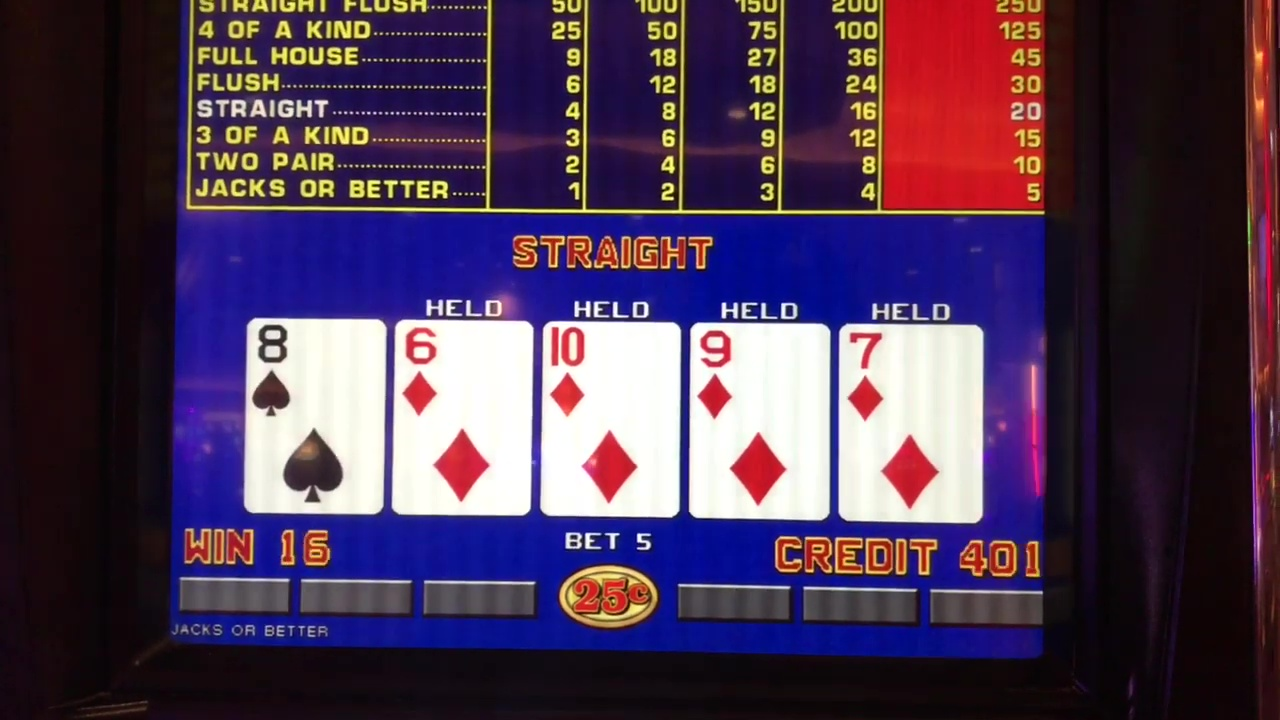D6: (398, 320, 525, 516)
D7: (841, 326, 979, 522)
D8: (247, 322, 380, 514)
D9: (689, 323, 827, 516)
DT: (543, 323, 677, 514)
